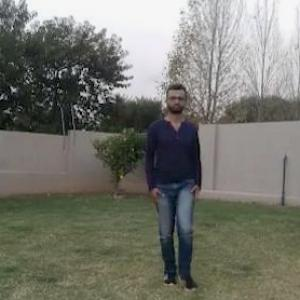follow: (153, 97, 199, 279)
